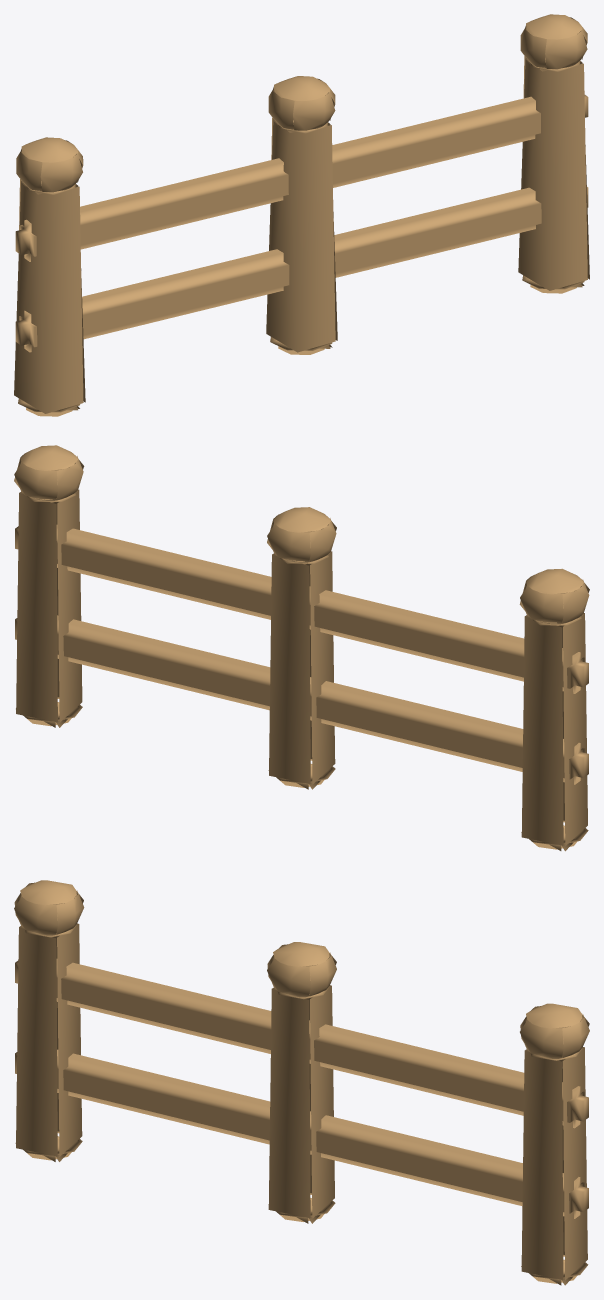
File: toy_fence_wood.glb
The picture shows the model from 3 angles, top to bottom: view 1: azimuth 30°, elevation 25°; view 2: azimuth 150°, elevation 25°; view 3: azimuth 330°, elevation 25°; orthographic projection.
Parts seen in each view (by area): view 1: Rail_0.68, Rail_0.32, Post_-1.05, Post_0.0, Post_1.05, Ball_1.05, Ball_-1.05, Ball_0.0; view 2: Rail_0.68, Rail_0.32, Post_-1.05, Post_0.0, Post_1.05, Ball_0.0, Ball_-1.05, Ball_1.05; view 3: Rail_0.68, Rail_0.32, Post_1.05, Post_-1.05, Post_0.0, Ball_0.0, Ball_-1.05, Ball_1.05.
Boxes of the visible parts, x1=… form: Rail_0.68: x1=15, y1=95, x2=588, y2=261; Rail_0.32: x1=15, y1=187, x2=588, y2=352; Post_-1.05: x1=14, y1=179, x2=85, y2=416; Post_0.0: x1=266, y1=117, x2=337, y2=354; Post_1.05: x1=518, y1=56, x2=589, y2=293; Ball_1.05: x1=520, y1=14, x2=587, y2=69; Ball_-1.05: x1=16, y1=137, x2=83, y2=192; Ball_0.0: x1=268, y1=76, x2=335, y2=130; Rail_0.68: x1=15, y1=525, x2=588, y2=693; Rail_0.32: x1=15, y1=615, x2=588, y2=784; Post_-1.05: x1=521, y1=602, x2=588, y2=851; Post_0.0: x1=268, y1=539, x2=335, y2=789; Post_1.05: x1=16, y1=479, x2=82, y2=727; Ball_0.0: x1=267, y1=507, x2=336, y2=564; Ball_-1.05: x1=519, y1=568, x2=589, y2=625; Ball_1.05: x1=14, y1=445, x2=84, y2=502; Rail_0.68: x1=15, y1=959, x2=588, y2=1128; Rail_0.32: x1=15, y1=1049, x2=588, y2=1218; Post_1.05: x1=521, y1=1035, x2=588, y2=1285; Post_-1.05: x1=15, y1=914, x2=82, y2=1161; Post_0.0: x1=268, y1=975, x2=335, y2=1223; Ball_0.0: x1=267, y1=942, x2=336, y2=997; Ball_-1.05: x1=14, y1=880, x2=84, y2=935; Ball_1.05: x1=520, y1=1003, x2=589, y2=1058.
Bounding box in the file's own units: 2.36 × 1.06 × 0.2491.
